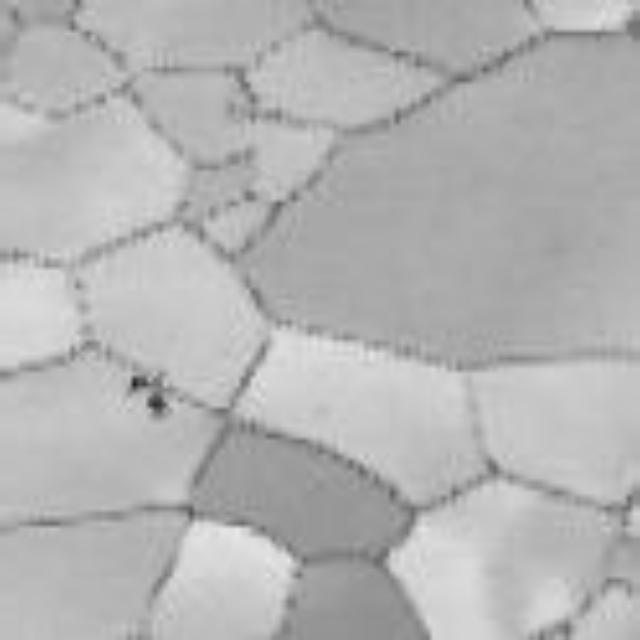good_void: (149, 391, 171, 415), (129, 371, 151, 393)
